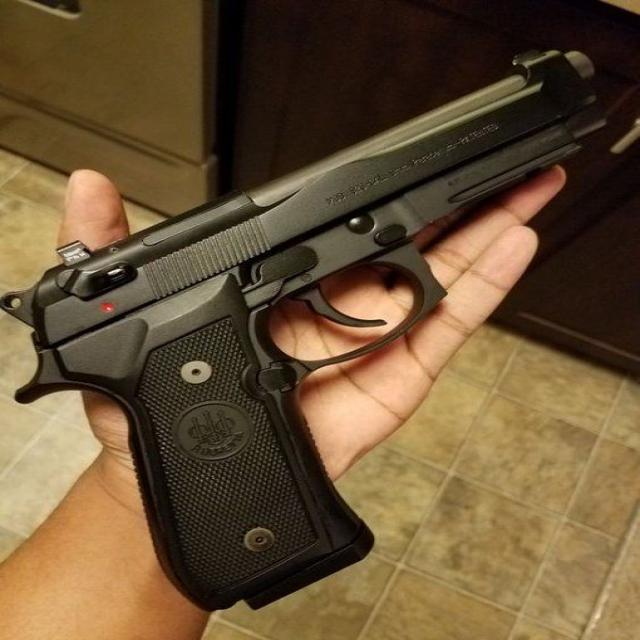HandGun: (0, 50, 614, 615)
